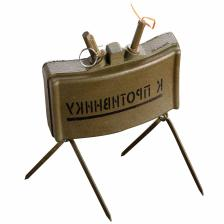MOH-50: (35, 28, 199, 142)
